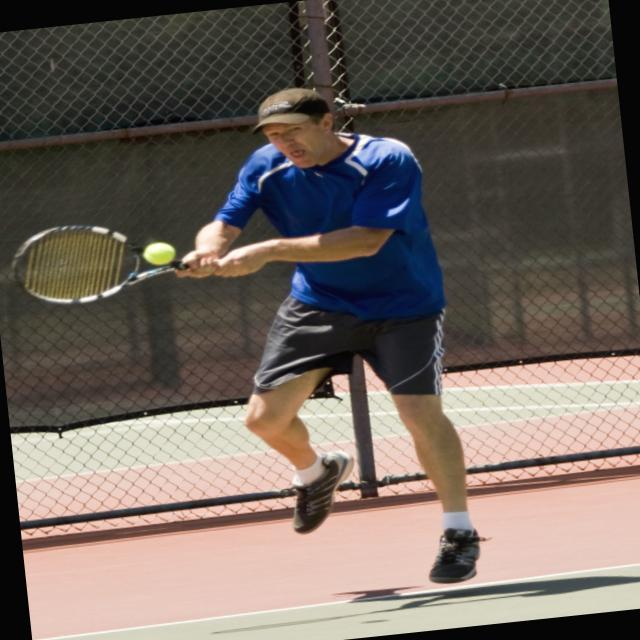Tennis Ball: (142, 239, 179, 268)
